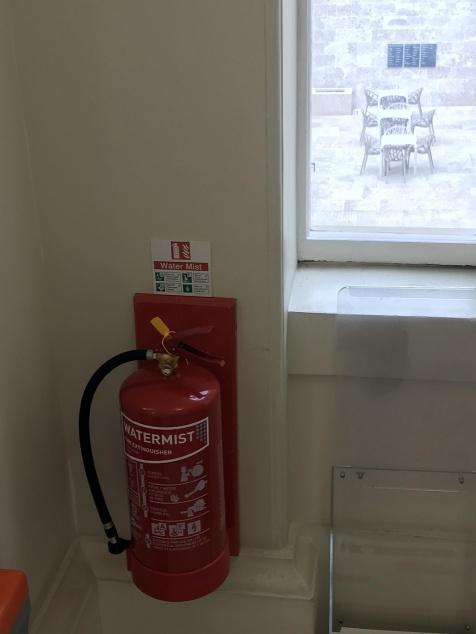APAR: (118, 324, 228, 602)
